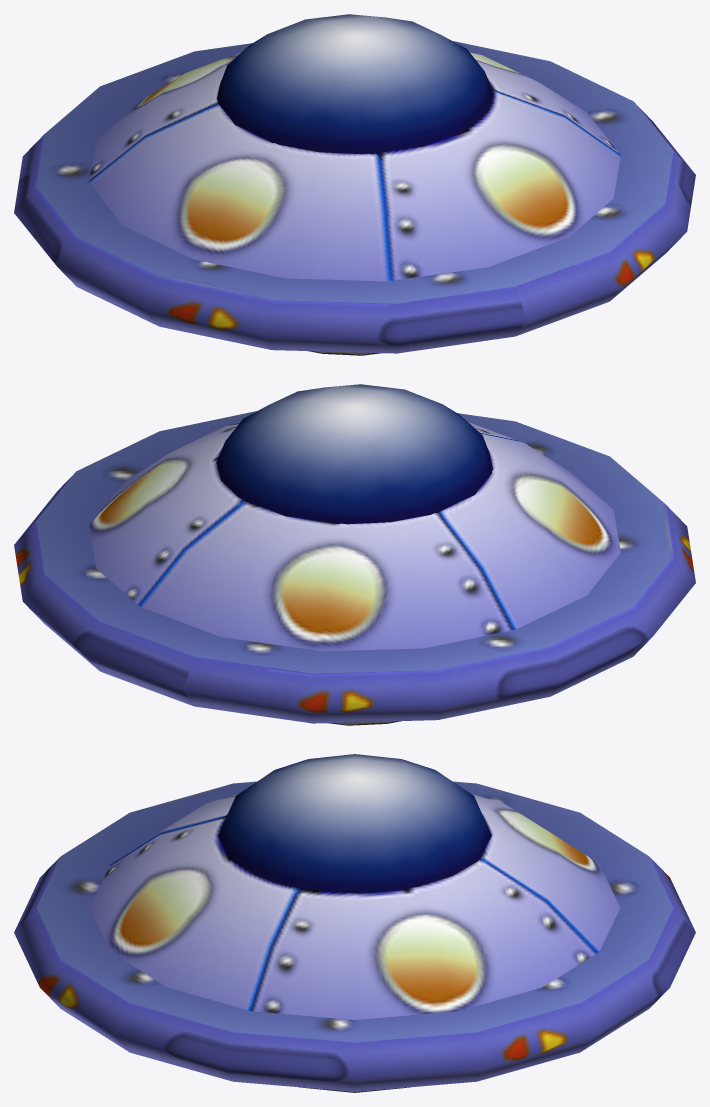
File: ufo.fbx
3 views of the same model, one above another, from view 1: azimuth 30°, elevation 25°; view 2: azimuth 150°, elevation 25°; view 3: azimuth 270°, elevation 25° (orthographic).
Parts seen in each view (by area): view 1: ufo; view 2: ufo; view 3: ufo.
Part boxes in pixels (box(x1,y1,x2,y2)): ufo: box(14, 14, 695, 355); ufo: box(14, 384, 695, 725); ufo: box(14, 754, 695, 1092).
Bounding box in the file's own units: 212 × 90.74 × 212.
